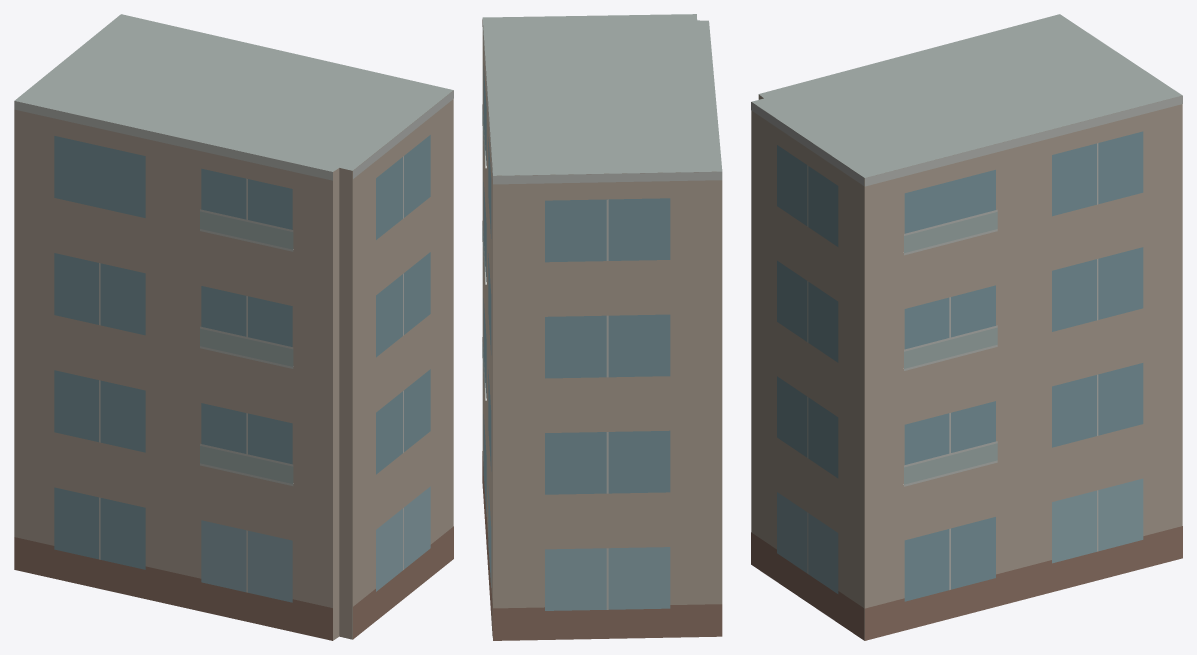
File: survey-upis-32724541.glb
3 renders of one model, left to right at view 1: azimuth 30°, elevation 25°; view 2: azimuth 150°, elevation 25°; view 3: azimuth 270°, elevation 25°, orthographic.
Visible parts, largest first — view 1: survey-upis-32724541.tmp; view 2: survey-upis-32724541.tmp; view 3: survey-upis-32724541.tmp.
Part boxes in pixels (<box>): survey-upis-32724541.tmp: <box>14,14,453,640</box>; survey-upis-32724541.tmp: <box>482,14,722,640</box>; survey-upis-32724541.tmp: <box>751,14,1182,640</box>.
Bounding box in the file's own units: 10.04 × 13.2 × 11.16.
